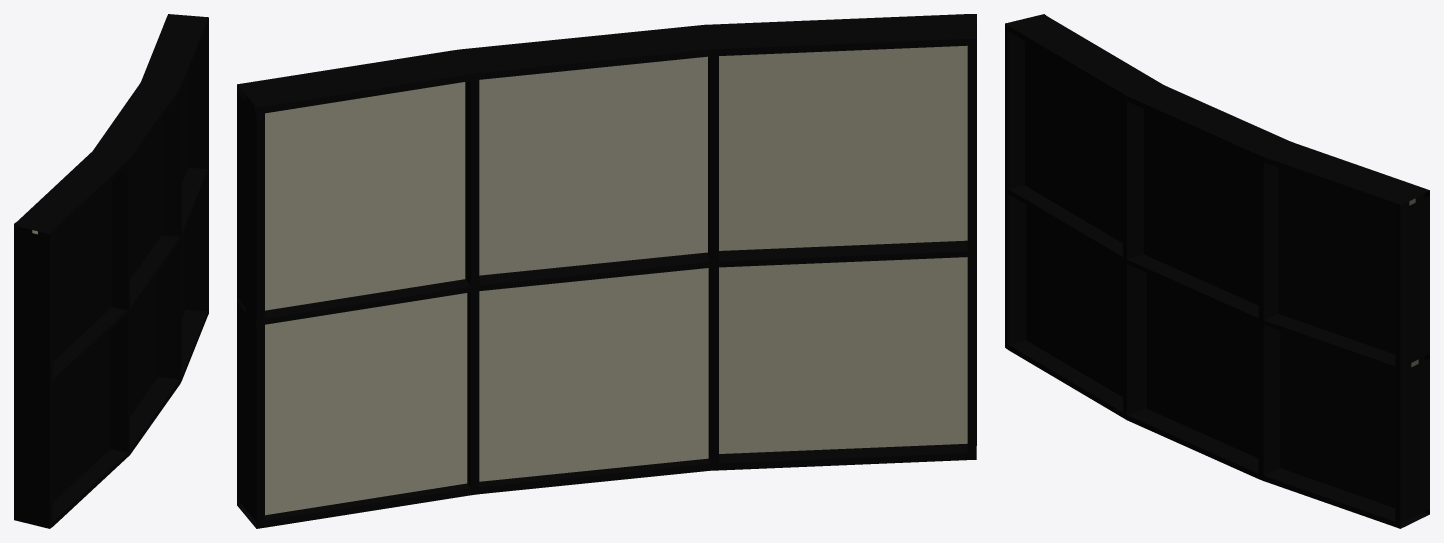
File: Curved Glass.FBX
3 renders of one model, left to right at view 1: azimuth 30°, elevation 25°; view 2: azimuth 150°, elevation 25°; view 3: azimuth 270°, elevation 25°, orthographic. The views are drawn at different scales.
Parts seen in each view (by area): view 1: Plane006; view 2: Plane006; view 3: Plane006.
Part boxes in pixels (left/top/right/bottom): Plane006: left=14, top=14, right=208, bottom=528; Plane006: left=237, top=14, right=976, bottom=528; Plane006: left=1005, top=14, right=1429, bottom=528.
Bounding box in the file's own units: 86.17 × 68.25 × 81.08.
